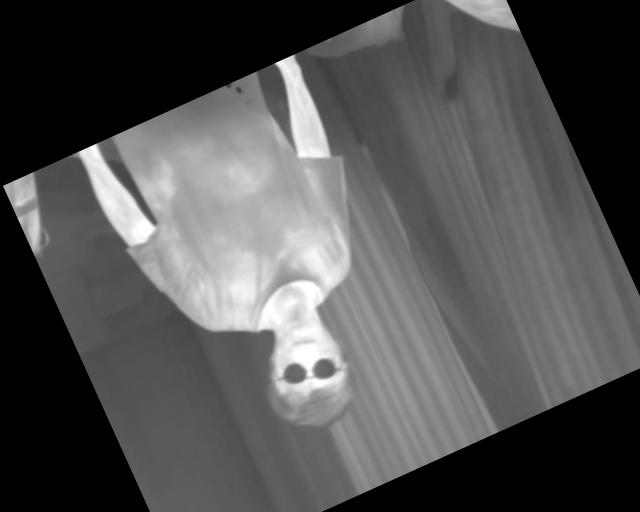face: (241, 305, 371, 446)
